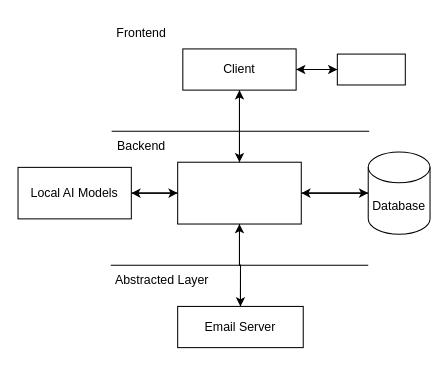
The diagram is 448 pixels wide and 366 high, and some of its shapes have lost their labels. Here are the shapes that lost their labels. From the top down, the box of each, then its label:
(336, 53, 405, 85): Cache
(177, 161, 301, 224): API Server
